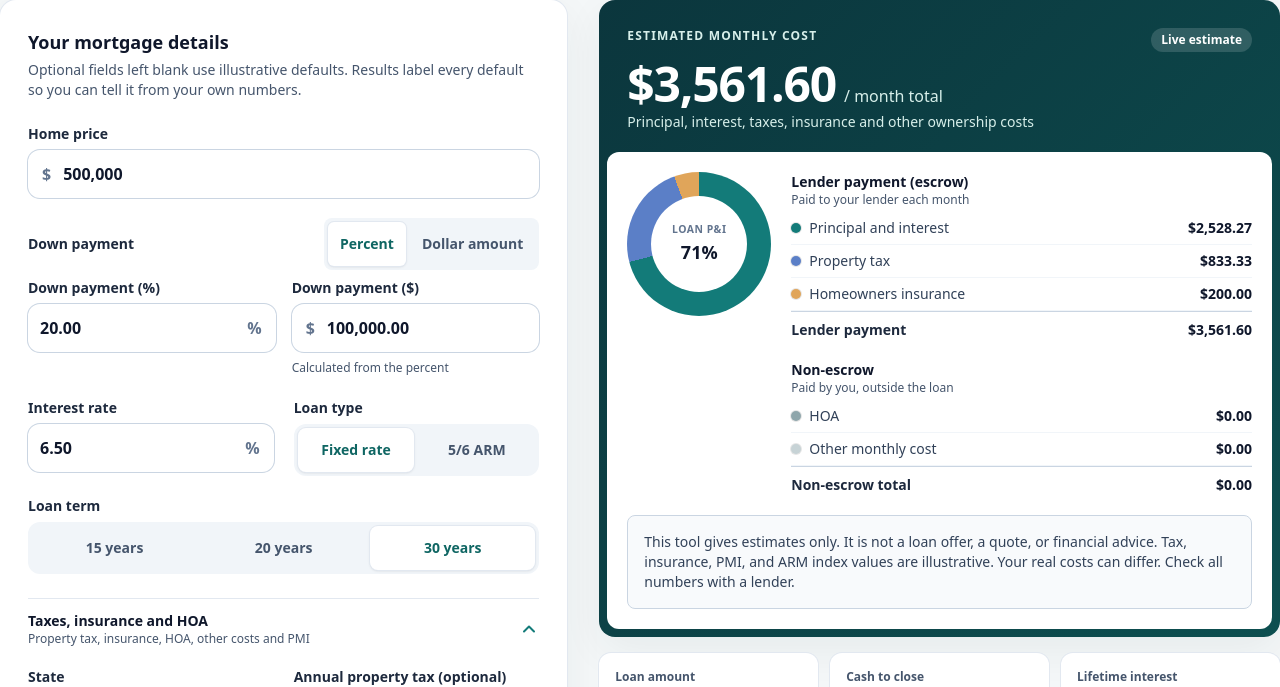
Test: LoanCalculator › validates the interest rate text
The width and height of the screenshot is (1280, 687).
Replace the text in the field labelled "Interest rate" with "abc": (137, 448) [28,428,245,468]
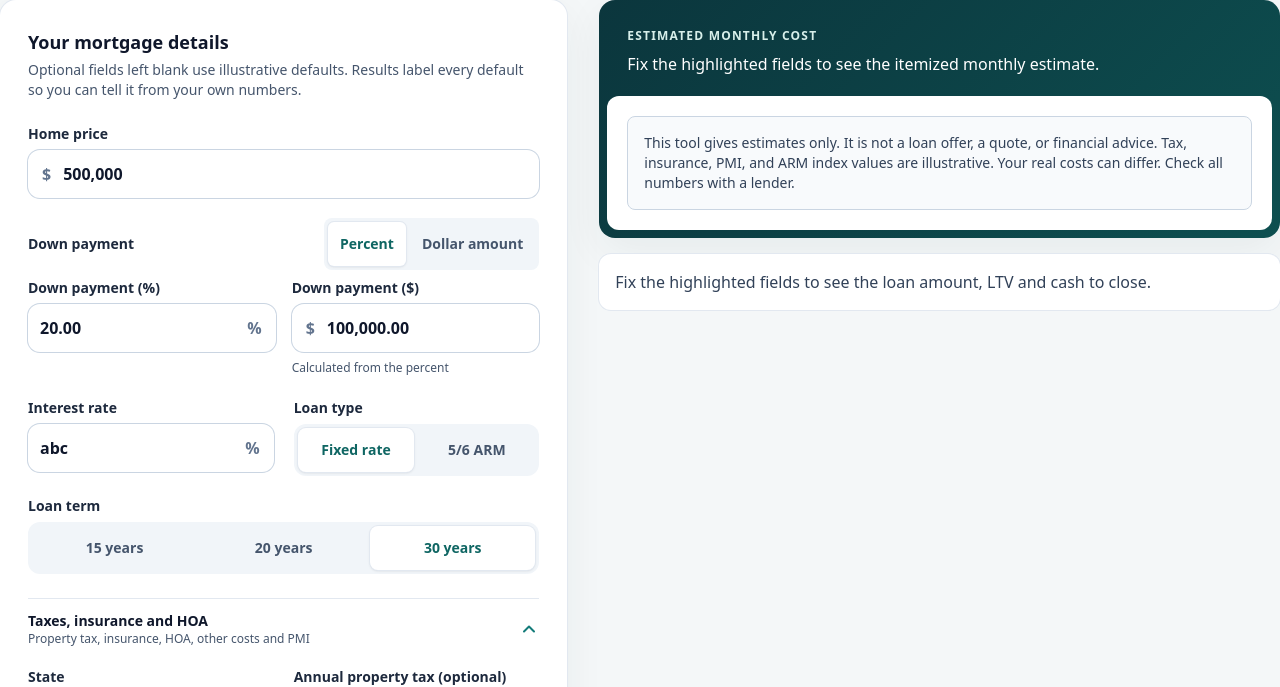
Leave the field labelled "Interest rate", box [28,428,245,468]
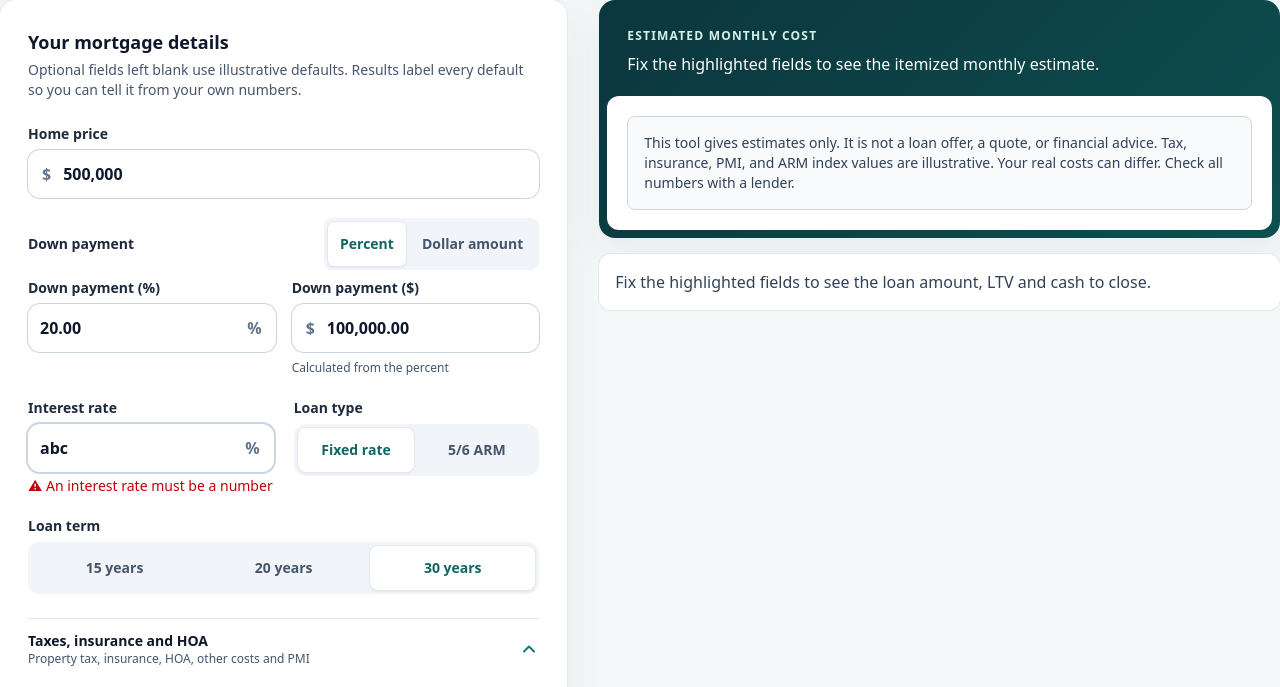
Check: the text "An interest rate must be a number" is shown, box [46,476,273,494]
